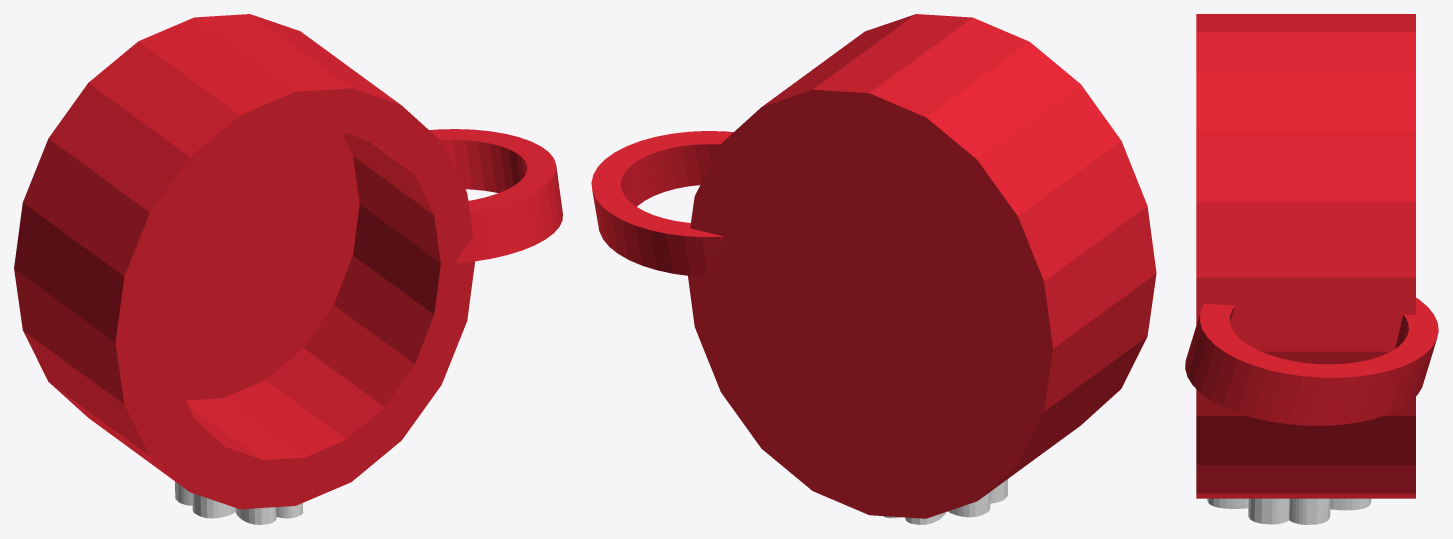
Rendered from tinker.obj.
3 renders of one model, left to right at view 1: azimuth 30°, elevation 25°; view 2: azimuth 150°, elevation 25°; view 3: azimuth 270°, elevation 25°, orthographic. The views are drawn at different scales.
Parts seen in each view (by area): view 1: group_0_15277357, group_0_16448250; view 2: group_0_15277357, group_0_16448250; view 3: group_0_15277357, group_0_16448250.
Part boxes in pixels (box(x1,y1,x2,y2)): group_0_15277357: box(14, 14, 562, 509); group_0_16448250: box(175, 481, 303, 524); group_0_15277357: box(591, 14, 1156, 518); group_0_16448250: box(883, 479, 1007, 524); group_0_15277357: box(1185, 14, 1438, 498); group_0_16448250: box(1207, 498, 1371, 524).
Bounding box in the file's own units: 55 × 47 × 23.09.
